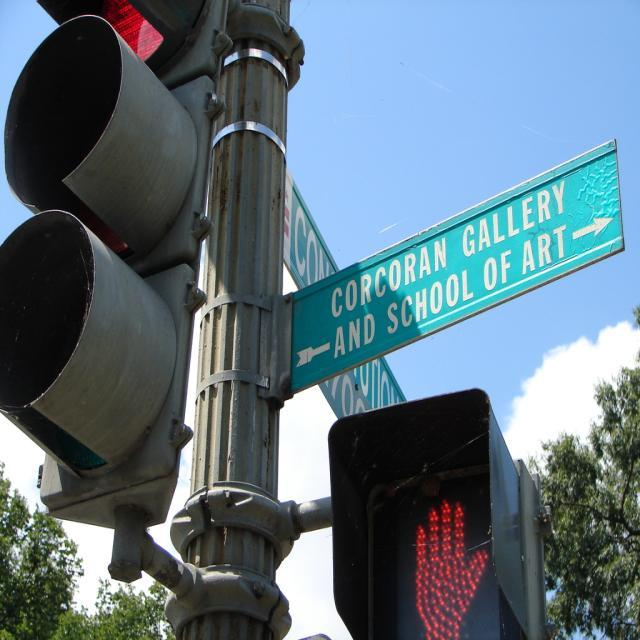traffic light: (0, 0, 233, 585), (327, 386, 527, 640)
